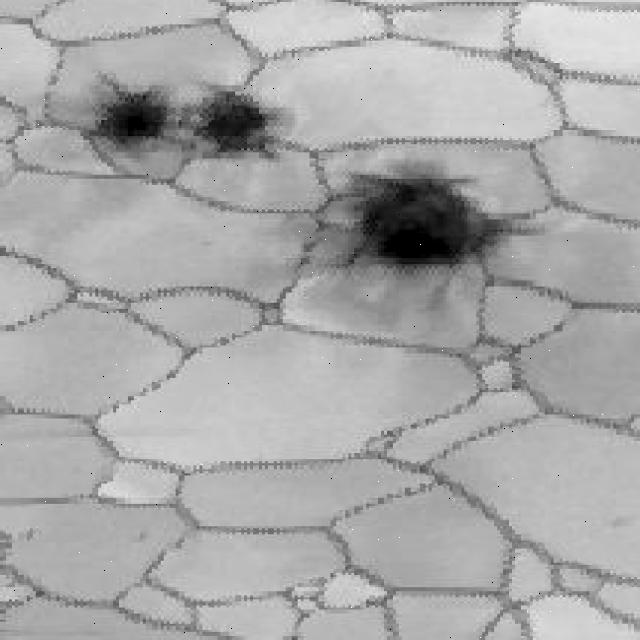good_void: (314, 168, 535, 289), (181, 86, 299, 167), (86, 77, 184, 152)
